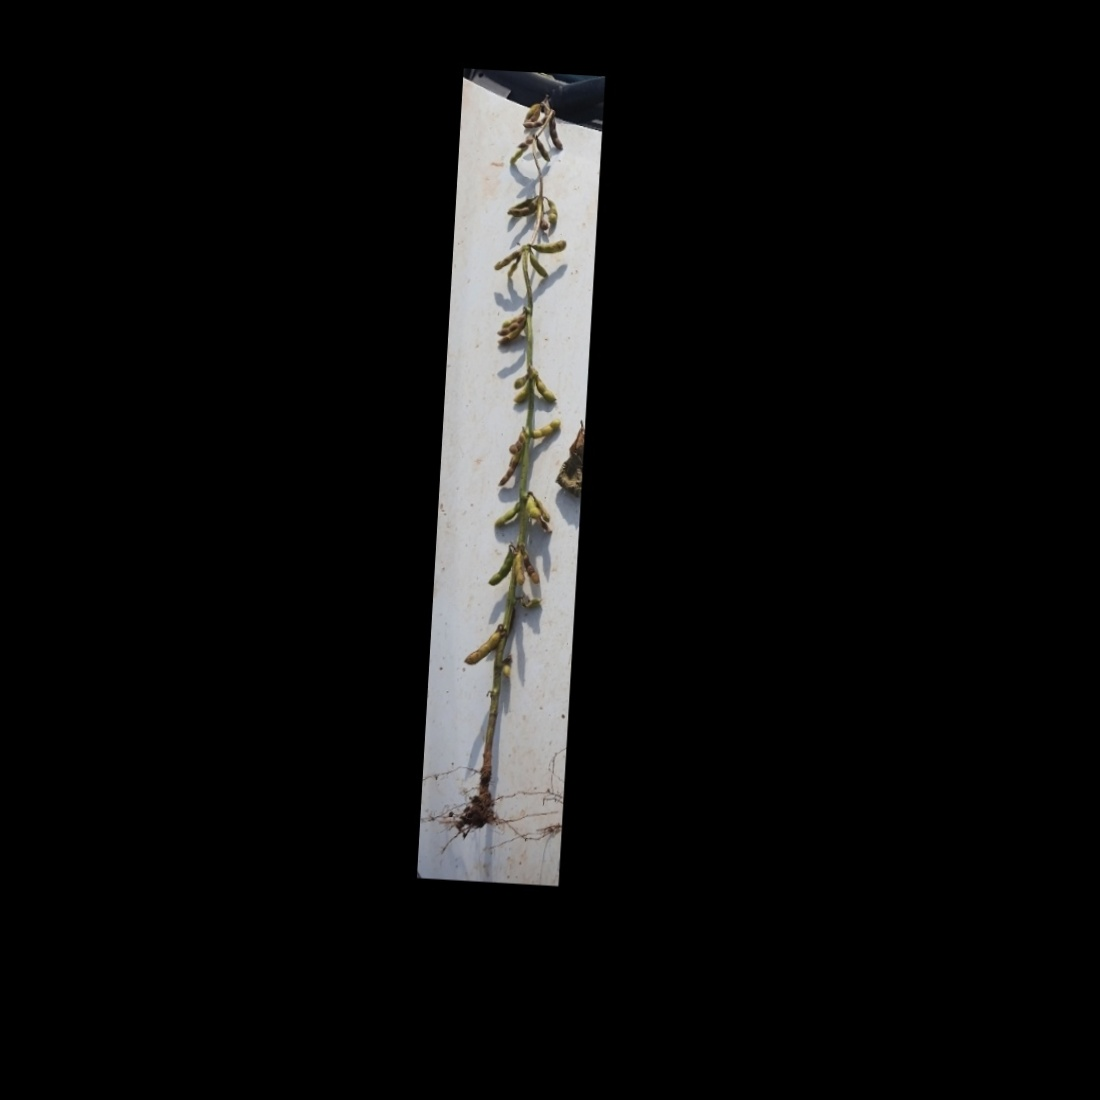pod: (462, 627, 501, 668), (487, 543, 516, 587), (492, 495, 524, 529), (497, 451, 522, 489), (530, 235, 570, 257), (529, 417, 562, 442), (532, 373, 559, 403), (519, 550, 543, 583), (546, 114, 565, 152), (493, 246, 520, 271), (528, 253, 552, 279), (512, 549, 525, 589), (521, 114, 550, 130), (535, 136, 552, 162), (505, 254, 522, 279), (543, 197, 560, 223)
soy: (447, 81, 583, 850)
